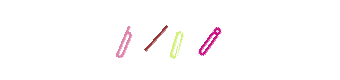8: (152, 0, 232, 80)
B: (105, 0, 185, 80)
L: (130, 0, 210, 80)
O: (136, 0, 216, 80)
